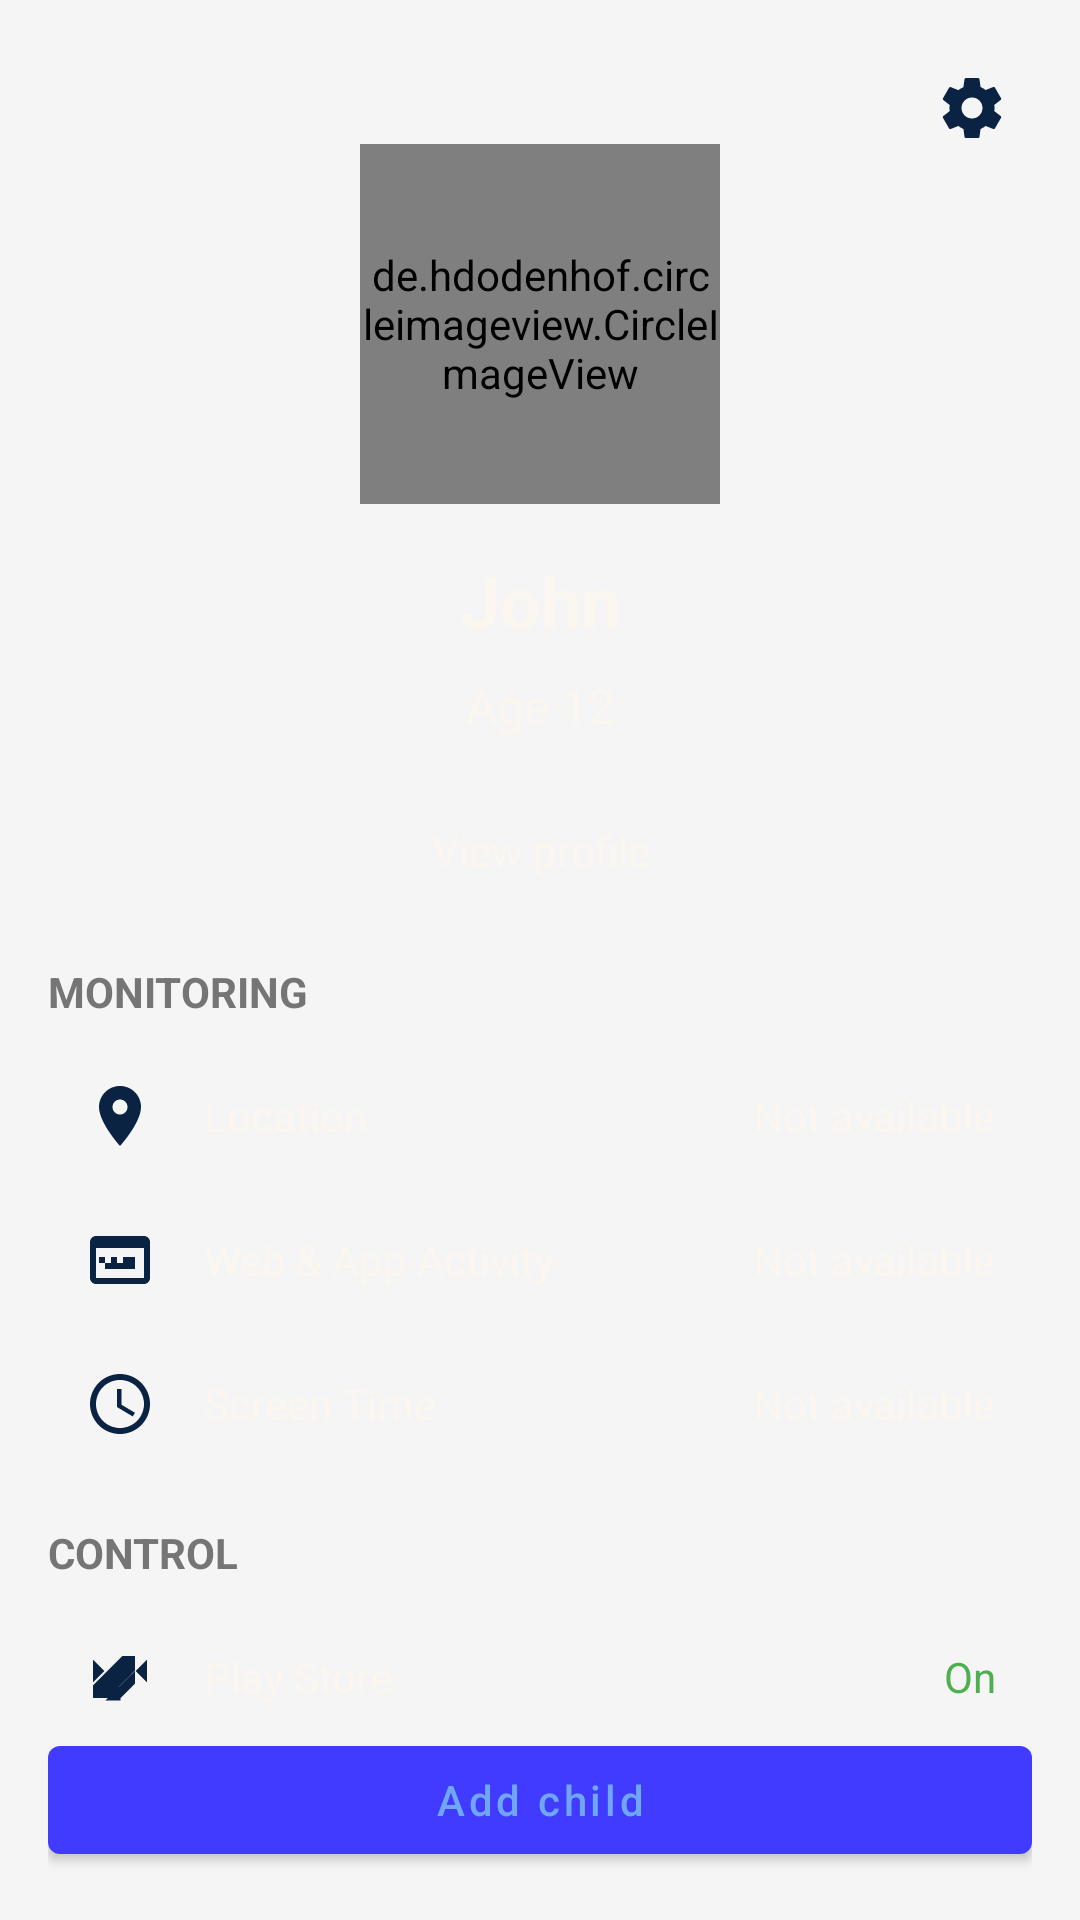

Where to tap for icons on this 1080x1920 app screen, as [x,y]:
Settings: [972,108]
